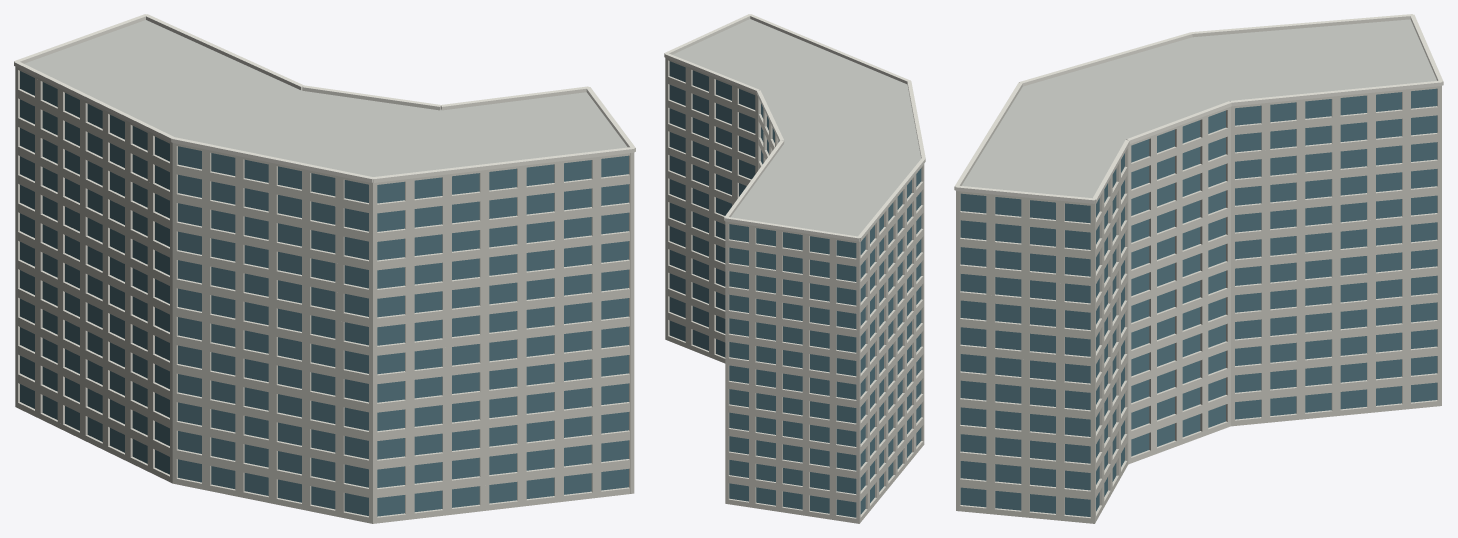
File: sb_404078719.far.glb
The picture shows the model from 3 angles, left to right: view 1: azimuth 30°, elevation 25°; view 2: azimuth 150°, elevation 25°; view 3: azimuth 270°, elevation 25°; orthographic projection. The views are drawn at different scales.
Parts seen in each view (by area): view 1: wall, glass, roof, trim; view 2: wall, glass, roof, trim; view 3: wall, glass, roof, trim.
Part boxes in pixels (box(x1,y1,x2,y2)): wall: box(15, 66, 634, 523); glass: box(20, 71, 628, 516); roof: box(24, 20, 627, 176); trim: box(14, 14, 635, 182); wall: box(665, 57, 924, 523); glass: box(669, 61, 921, 517); roof: box(672, 19, 921, 236); trim: box(664, 14, 925, 241); wall: box(956, 86, 1441, 523); glass: box(960, 88, 1437, 516); roof: box(961, 19, 1436, 198); trim: box(954, 14, 1443, 203).
Size of the model in its own units: 48.61 by 39.44 by 53.92.
